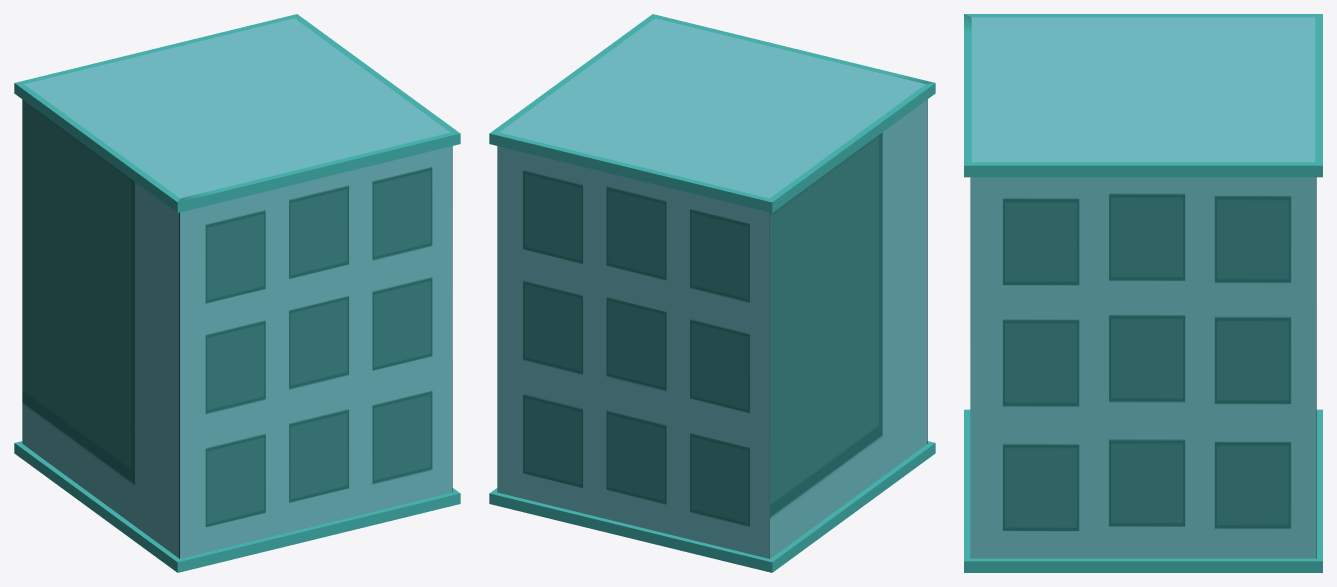
The model's file is building.fbx.
3 renders of one model, left to right at view 1: azimuth 30°, elevation 25°; view 2: azimuth 150°, elevation 25°; view 3: azimuth 270°, elevation 25°, orthographic. The views are drawn at different scales.
Parts seen in each view (by area): view 1: Cube.026; view 2: Cube.026; view 3: Cube.026.
Part boxes in pixels (<box>): Cube.026: <box>14,14,460,572</box>; Cube.026: <box>489,14,935,572</box>; Cube.026: <box>964,14,1322,572</box>.
Bounding box in the file's own units: 560 × 701 × 560.
